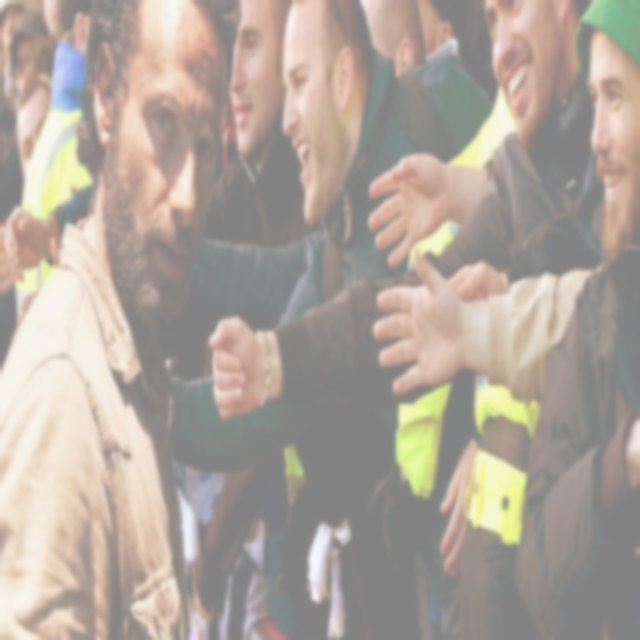pessoa: (207, 3, 606, 630), (340, 0, 594, 639), (163, 0, 498, 478), (1, 0, 242, 635), (16, 0, 242, 639), (168, 372, 358, 638), (366, 146, 604, 300), (535, 298, 640, 640), (396, 410, 536, 640), (0, 0, 98, 326), (356, 0, 488, 142), (202, 224, 302, 315), (214, 0, 240, 194), (604, 252, 640, 300)
